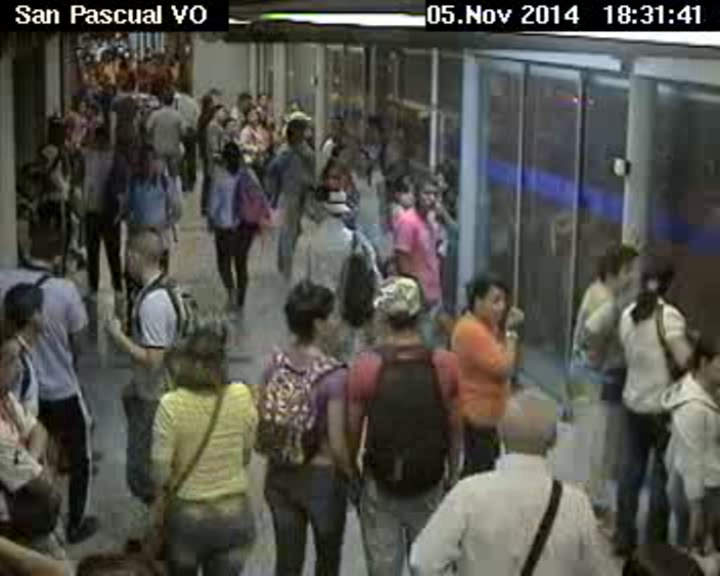person: (273, 273, 351, 358), (172, 313, 235, 391), (494, 389, 563, 459), (360, 276, 431, 344), (632, 244, 682, 322), (590, 228, 637, 293), (684, 322, 720, 402), (458, 274, 514, 322), (1, 272, 43, 335), (25, 216, 70, 269), (127, 230, 161, 284), (1, 325, 25, 397), (318, 187, 348, 221), (319, 160, 349, 191), (409, 180, 439, 209), (136, 143, 157, 182), (356, 146, 378, 182), (46, 113, 69, 147), (218, 140, 241, 172), (283, 117, 304, 148), (88, 120, 113, 146), (438, 156, 457, 190), (324, 142, 353, 164), (330, 112, 345, 139), (158, 87, 176, 108), (245, 108, 261, 130), (236, 91, 252, 113), (68, 96, 86, 115), (221, 117, 237, 135), (211, 104, 225, 122), (256, 92, 271, 108), (117, 79, 132, 95), (199, 96, 217, 109)
